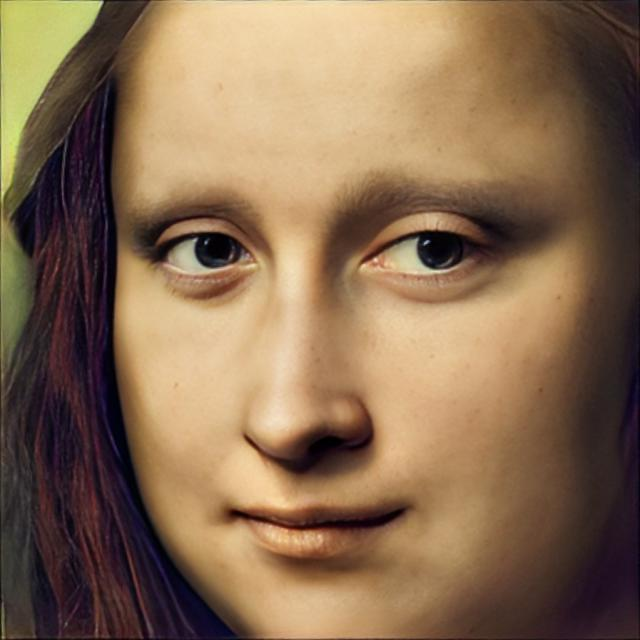content: (109, 0, 639, 627)
